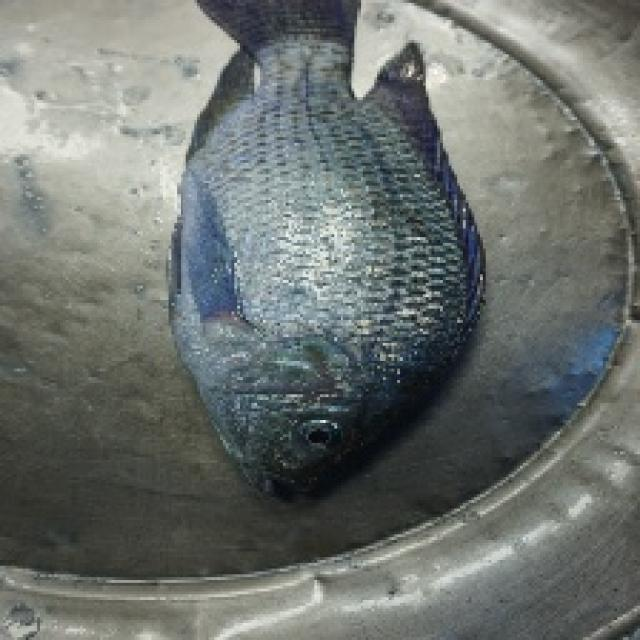Fresh: (150, 42, 493, 519)
